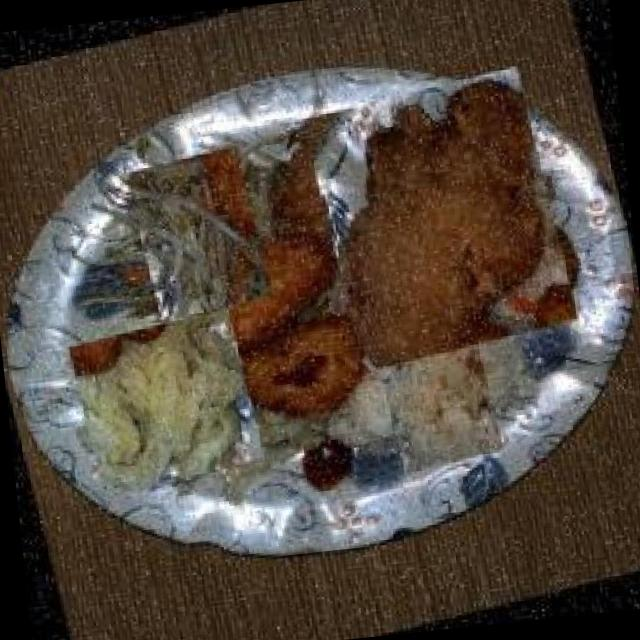chinese_cabbage: (66, 302, 267, 500)
fried_chicken: (292, 71, 589, 371)
mung_bean_sprouts: (115, 149, 284, 317)
rice: (354, 300, 520, 466)
triangle_hash_brown: (183, 225, 381, 441)
